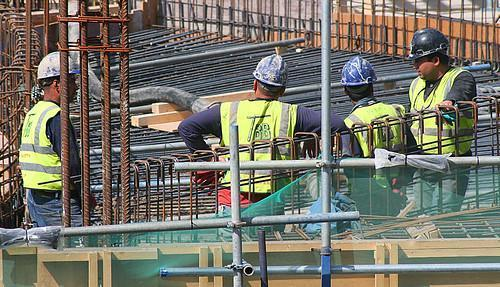vest: (213, 99, 300, 193), (407, 67, 473, 154), (19, 99, 74, 193), (341, 100, 408, 157)
